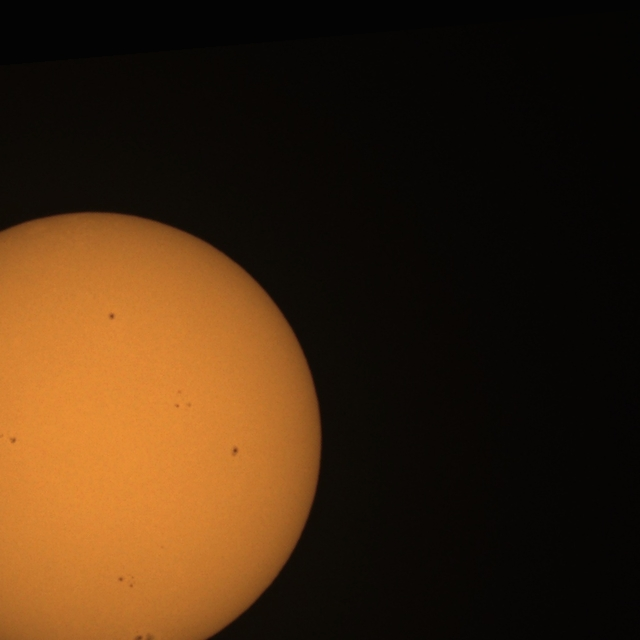sunspot: (173, 393, 193, 410), (0, 431, 19, 446), (118, 574, 136, 589), (133, 632, 156, 640), (175, 399, 187, 409), (230, 445, 239, 458), (7, 435, 17, 444), (108, 312, 116, 321), (118, 576, 125, 583), (160, 544, 165, 550)
